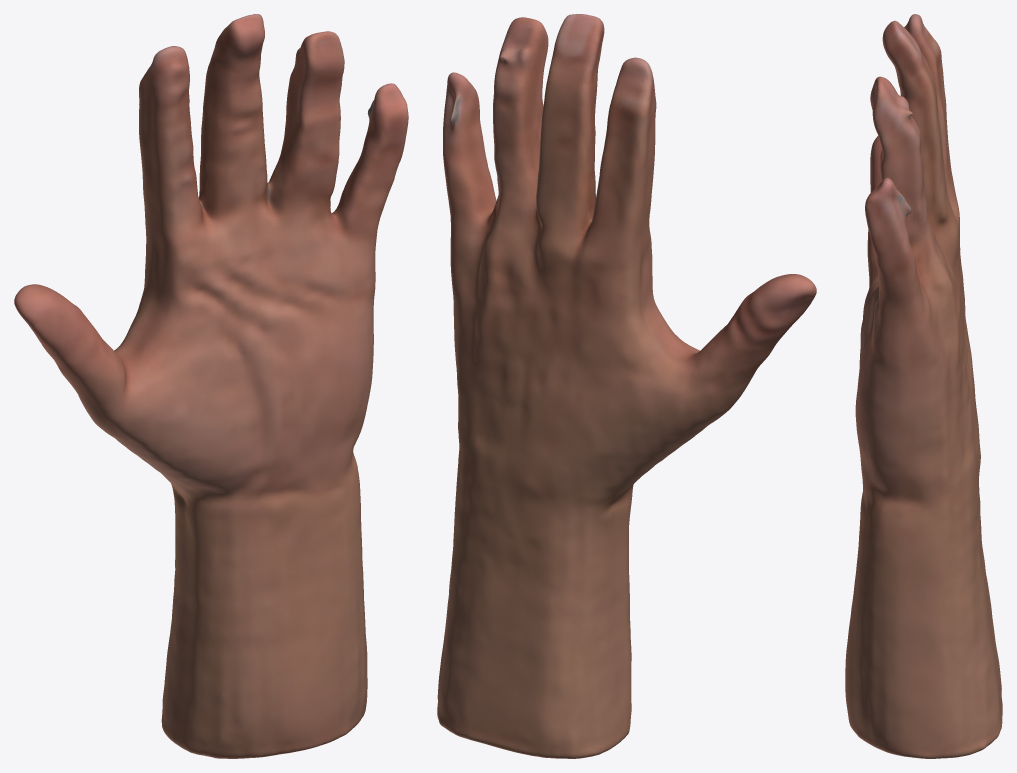
The model's file is hand_empty.glb.
3 renders of one model, left to right at view 1: azimuth 30°, elevation 25°; view 2: azimuth 150°, elevation 25°; view 3: azimuth 270°, elevation 25°, orthographic. The views are drawn at different scales.
Visible parts, largest first — view 1: world; view 2: world; view 3: world.
Part boxes in pixels (<box>): world: <box>14,14,408,758</box>; world: <box>437,14,816,758</box>; world: <box>845,14,1002,758</box>.
Bounding box in the file's own units: 0.3084 × 0.5629 × 0.1176.
1 material, 1 textured.
